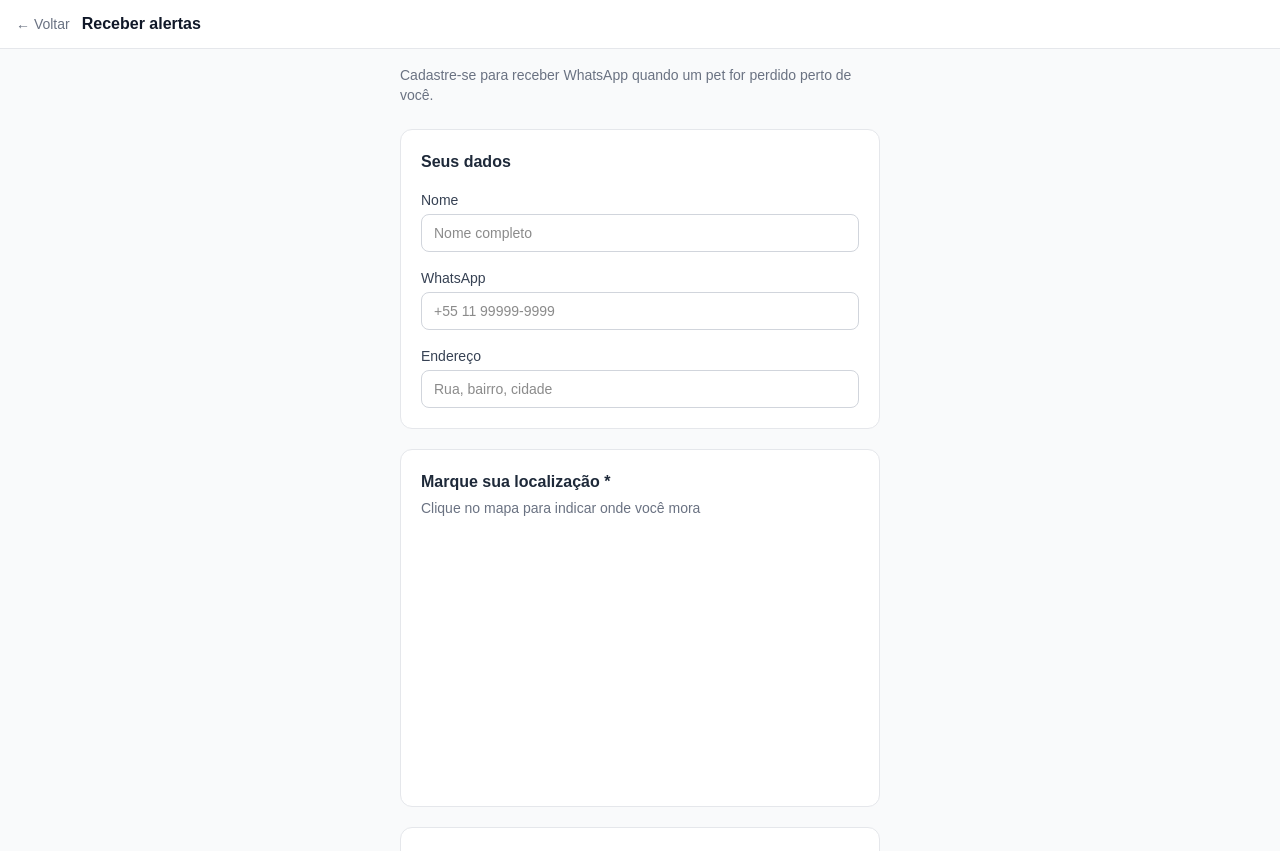
SubscribePage › shows error when submitting without selecting location on map
The image size is (1280, 851).
Step 1. Type "Carlos" into the field with placeholder "Nome completo" → coordinates (640, 233), box [421,214,859,252]
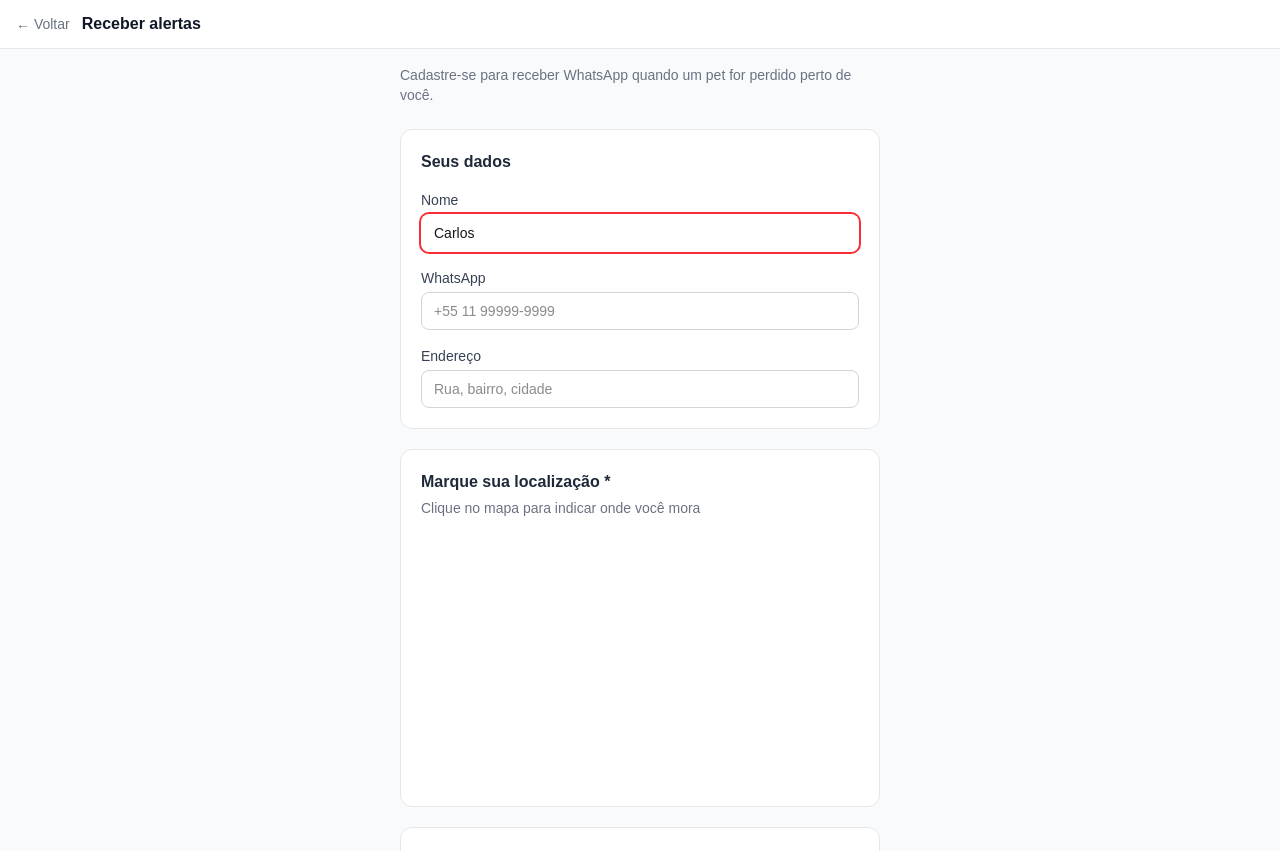
Step 2. Type "+5511999000001" into the field with placeholder "+55 11 99999-9999" → coordinates (640, 311), box [421,292,859,330]
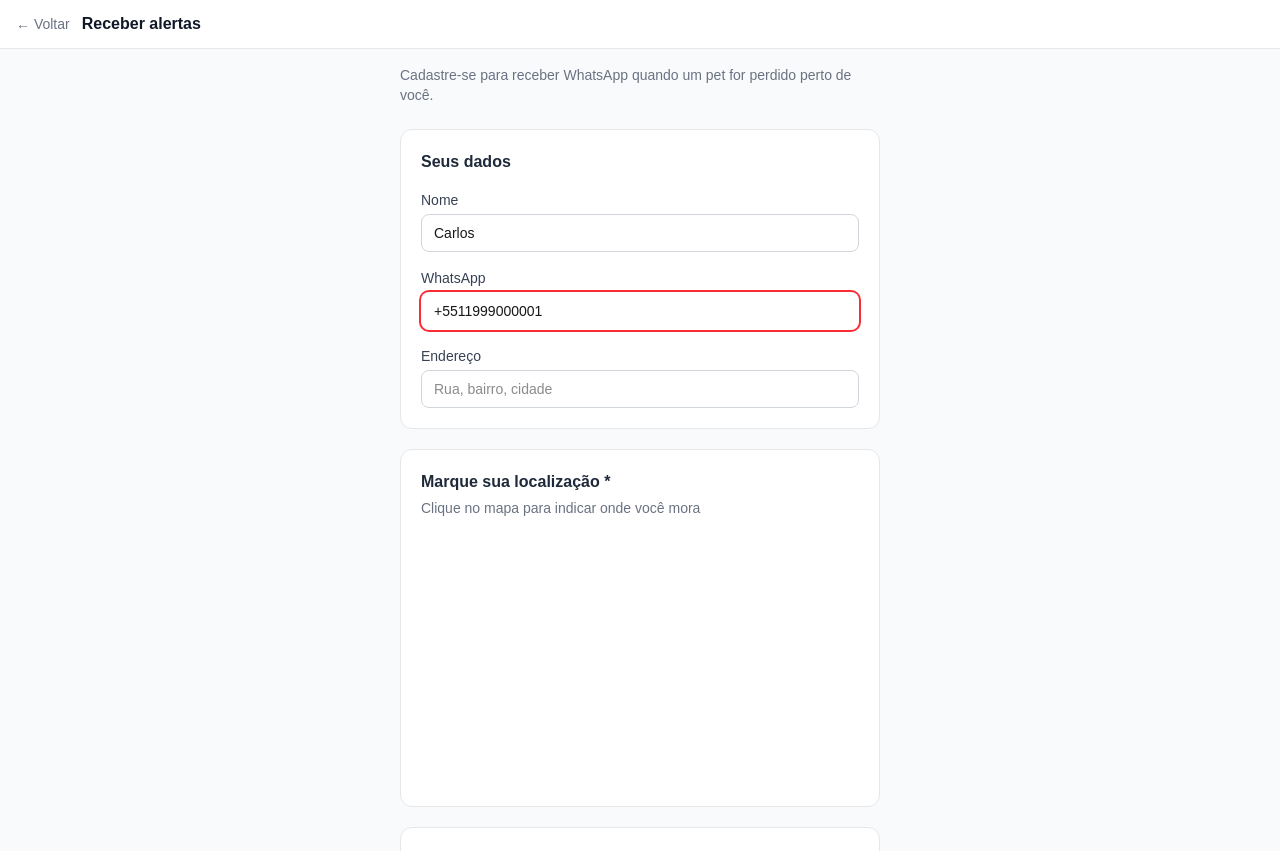
Step 3. Type "Rua A" into the field with placeholder "Rua, bairro, cidade" → coordinates (640, 389), box [421,370,859,408]
(page scrolled)
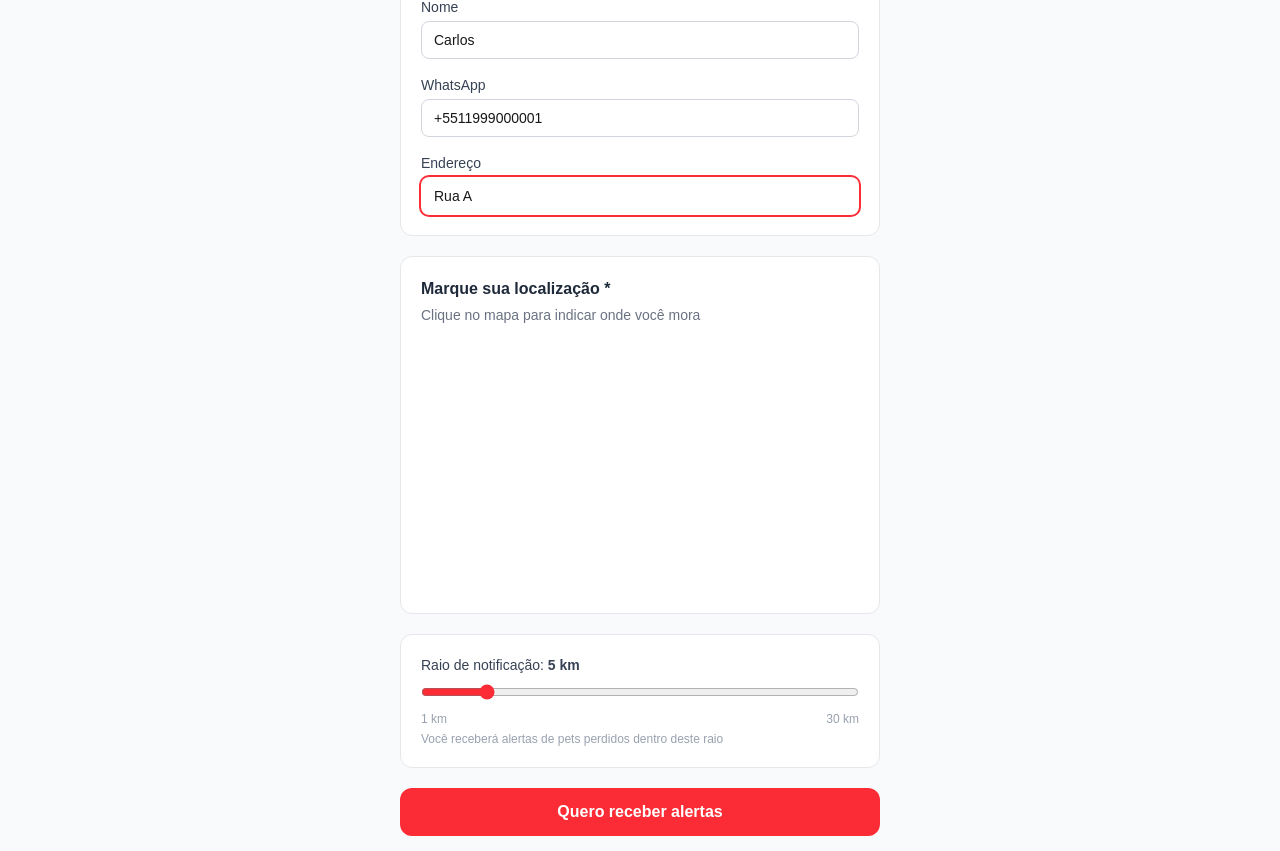
Step 4. Click the button "Quero receber alertas" → coordinates (640, 812), box [400,788,880,836]
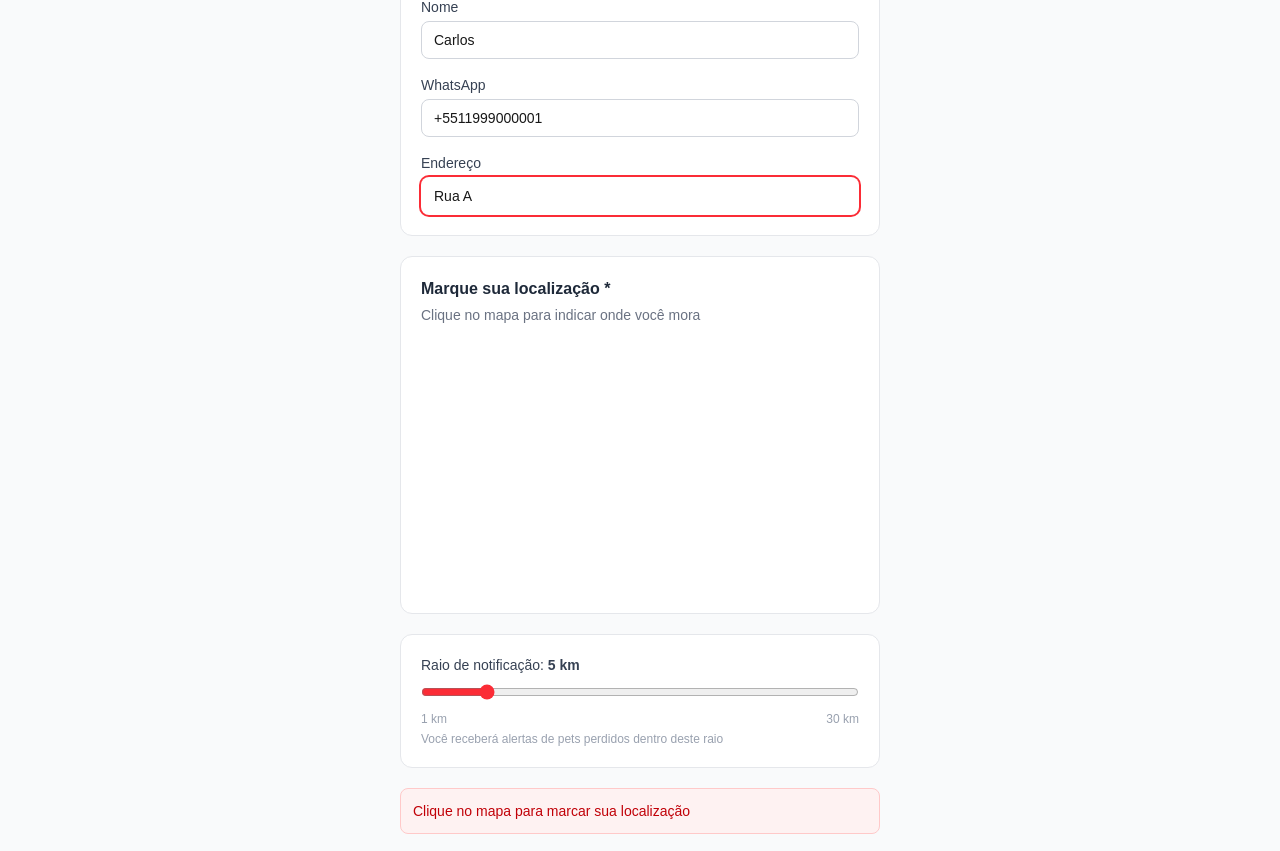
Expected: the text "Clique no mapa para marcar sua localização" is shown, [413,803,690,819]
